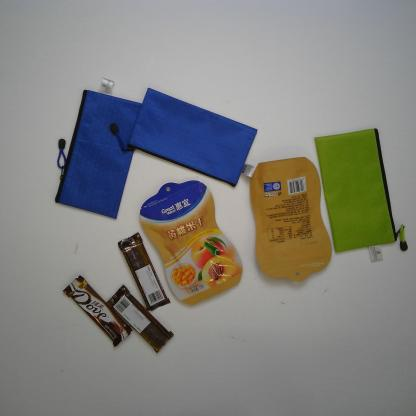Chocolate: (62, 274, 133, 348), (105, 284, 174, 354), (118, 232, 172, 312)
Dried Fruit: (139, 180, 244, 306), (250, 155, 332, 283)
Stationery: (110, 87, 258, 188), (314, 127, 408, 264), (54, 76, 143, 219)
